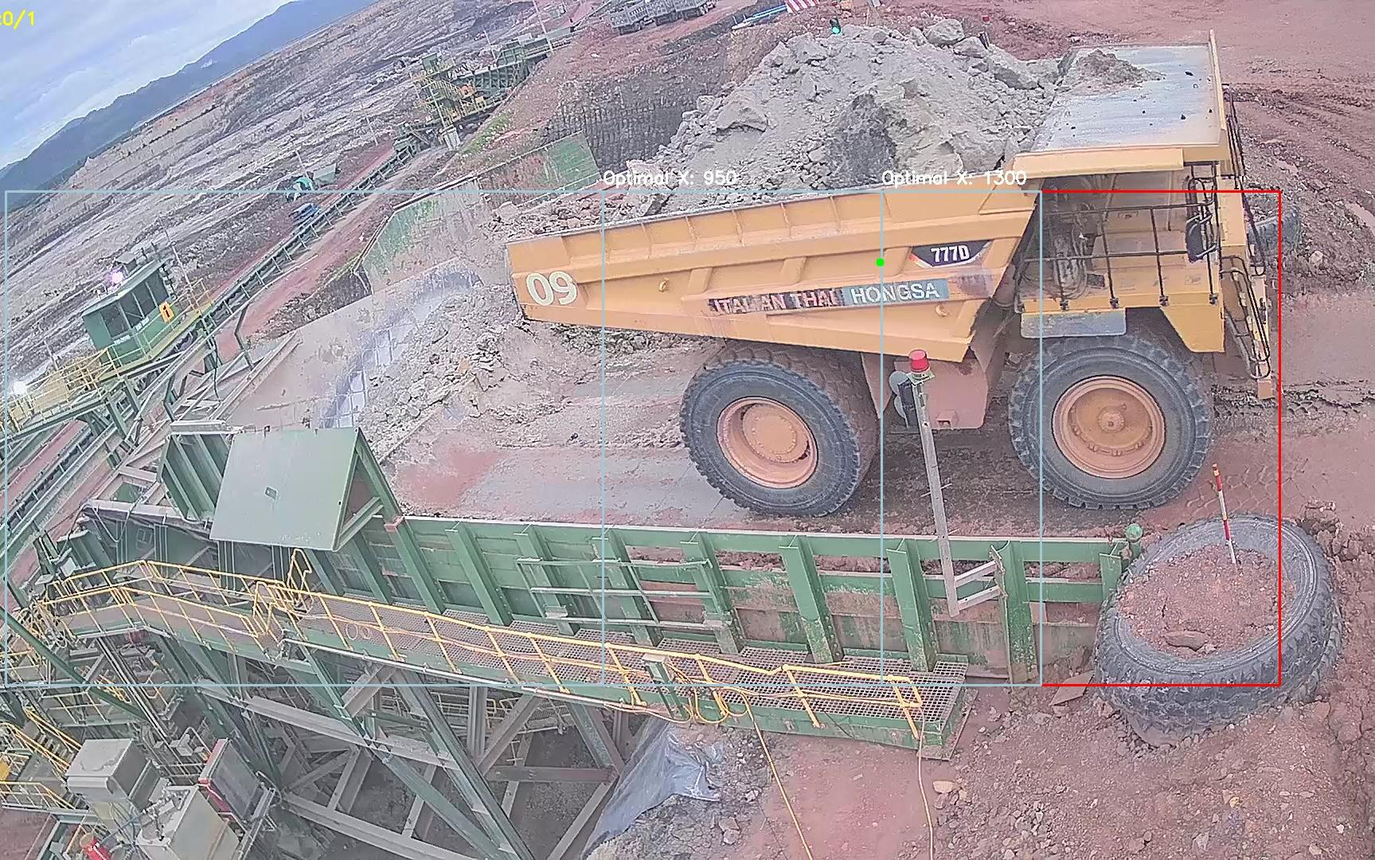company: (702, 276, 962, 319)
full_load: (667, 22, 1009, 192)
mining_truck: (490, 7, 1289, 527)
tail_number: (518, 262, 581, 321)
truck_size: (903, 233, 995, 270)
